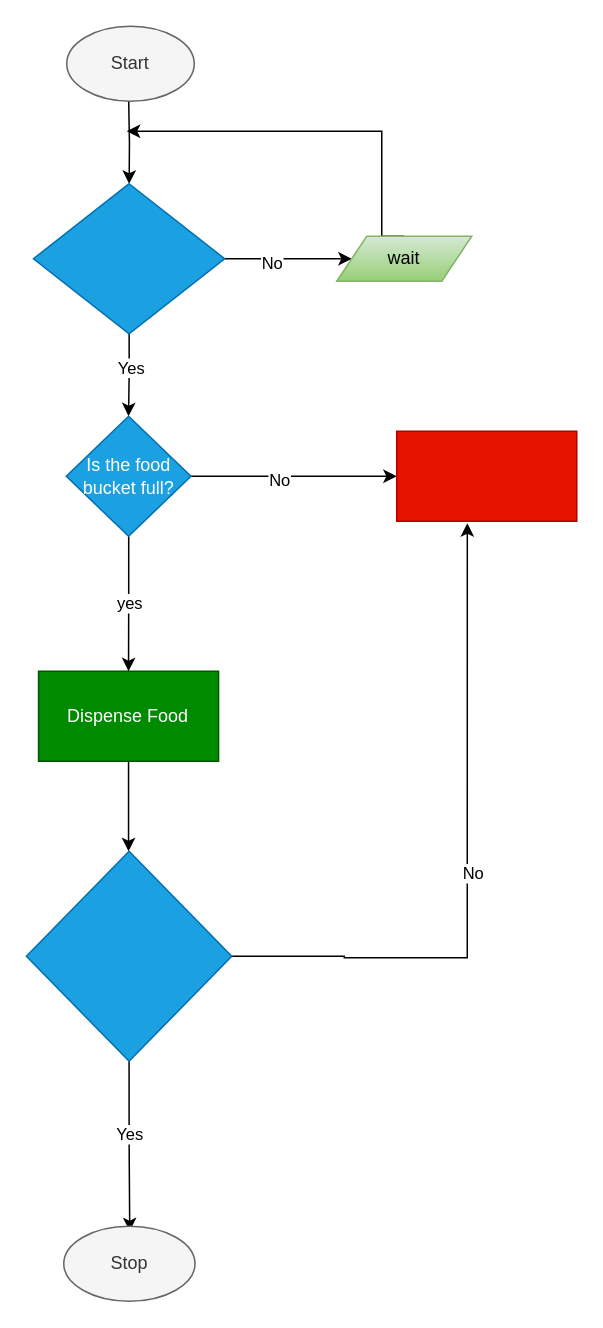
This 603x1328 diagram has some shape labels left out. Here are the shapes that lost their labels. From the top down, the centre of each, then its label:
At [128,258]: "Does real time match the set time?".
At [486,475]: "Alert".
At [128,955]: "Has the food bowl’s weight changed after 10 minutes?".
